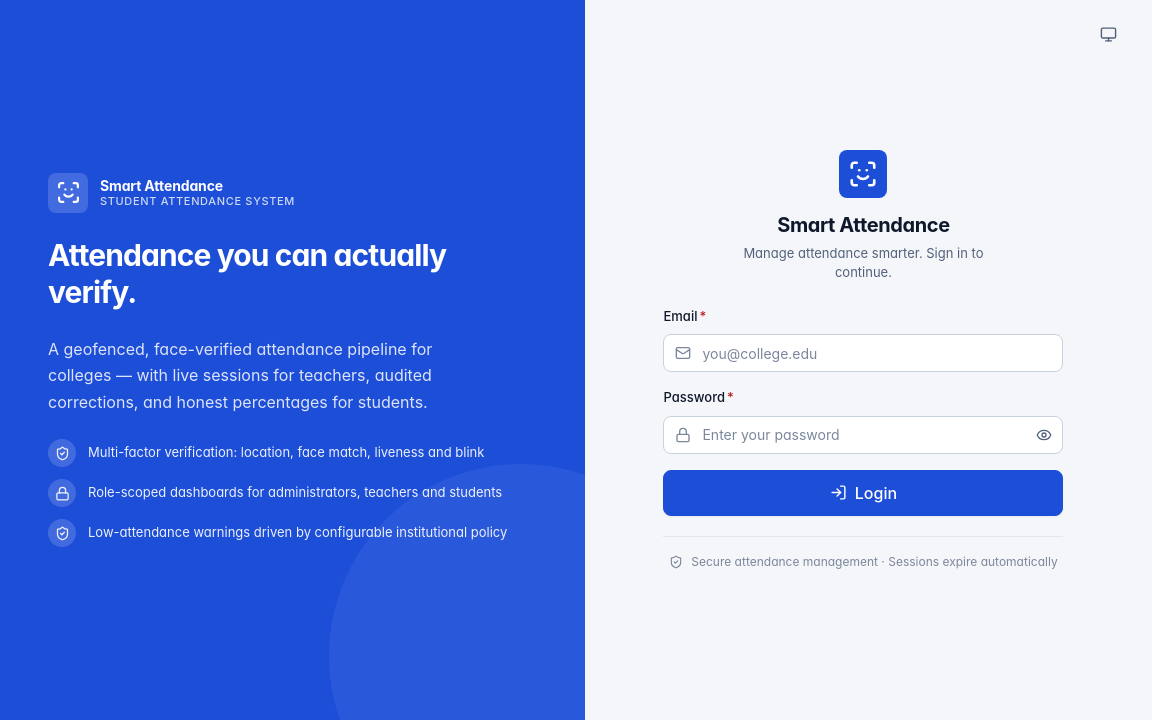
LoginPage › surfaces a lockout message from the backend
Type "aarav@ssams.dev" into the field labelled "Email*" at coordinates (864, 353), box [664, 334, 1064, 372]
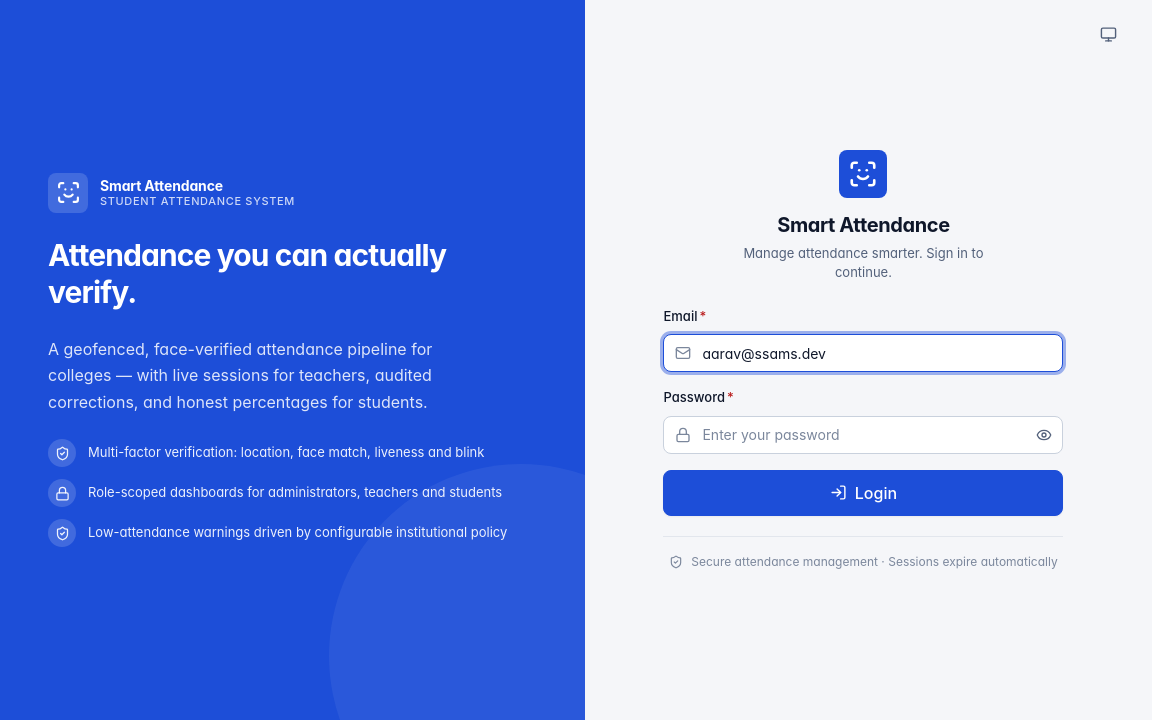
Type "wrong-password" into the password field labelled "Password*" at coordinates (864, 434), box [664, 416, 1064, 454]
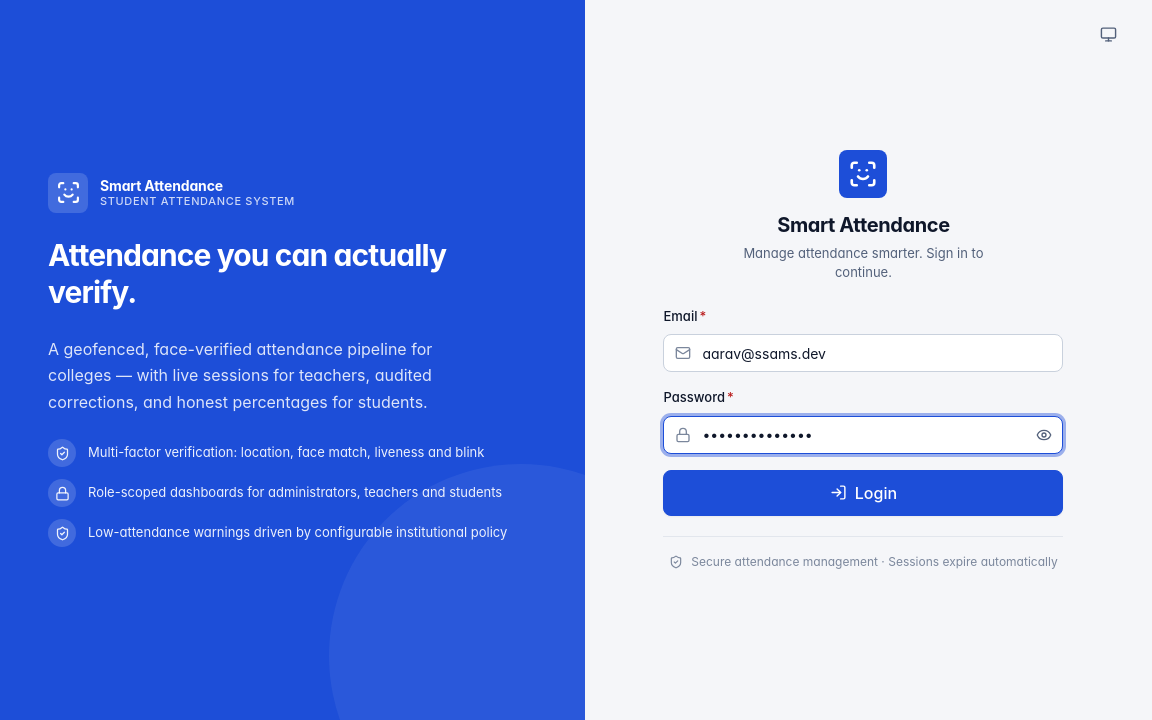
Click the button "Login" at coordinates (864, 492), box [664, 470, 1064, 516]
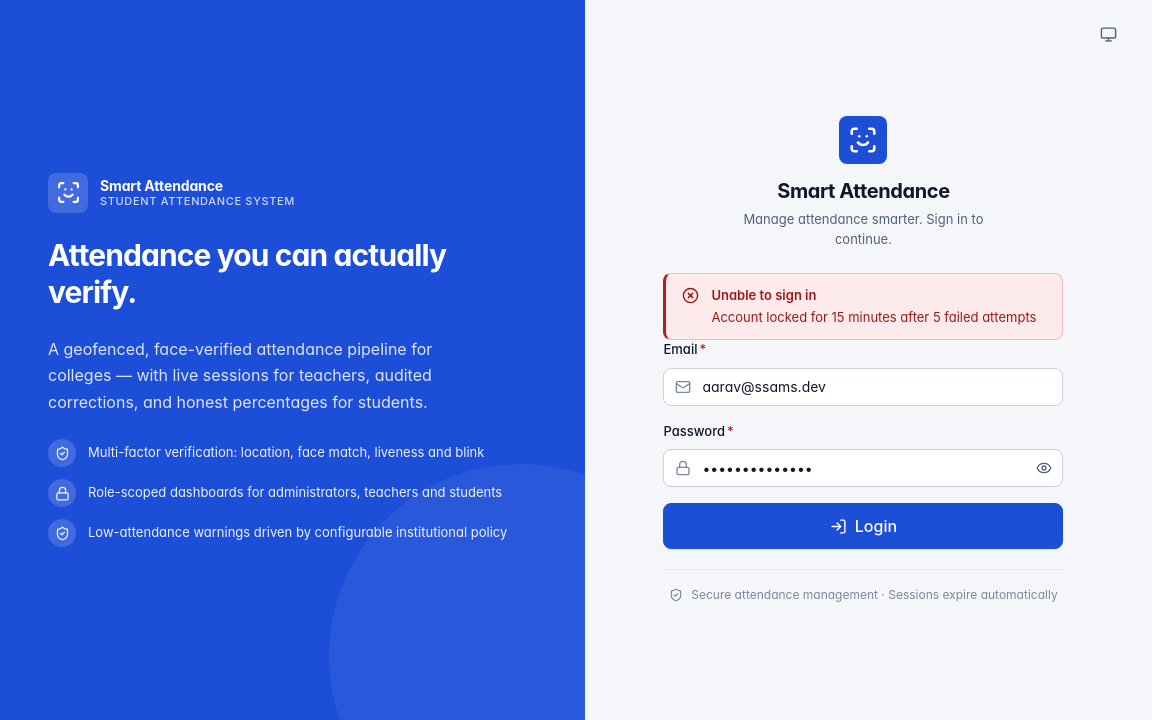
Expected: the text "Account locked for 15 minutes after 5 failed attempts" is shown, [712, 308, 1046, 327]
